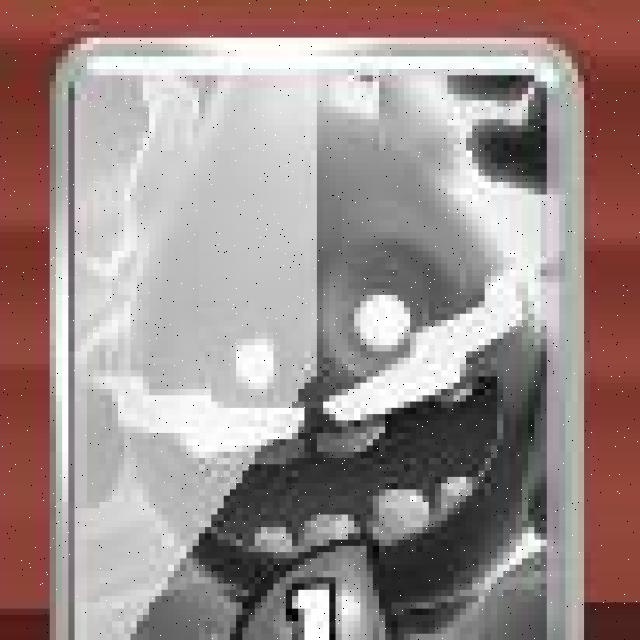Electro_Spirit: (51, 33, 591, 640)
